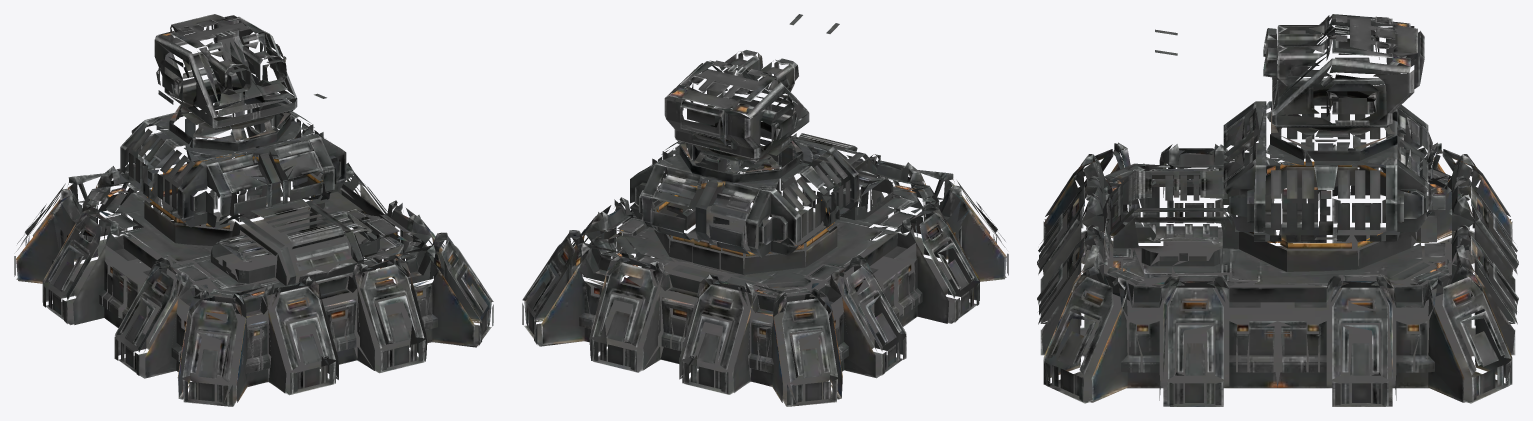
The model's file is bastion_LOD2.glb.
3 renders of one model, left to right at view 1: azimuth 30°, elevation 25°; view 2: azimuth 150°, elevation 25°; view 3: azimuth 270°, elevation 25°, orthographic. The views are drawn at different scales.
Visible parts, largest first — view 1: bastion_LOD2; view 2: bastion_LOD2; view 3: bastion_LOD2.
Boxes of the visible parts, x1,y1,x2,y2 form: bastion_LOD2: [14, 14, 493, 406]; bastion_LOD2: [522, 14, 1008, 406]; bastion_LOD2: [1037, 14, 1518, 406].
Size of the model in its own units: 0.8884 by 0.6542 by 0.989.
Materials: 1 (1 with a texture image).
